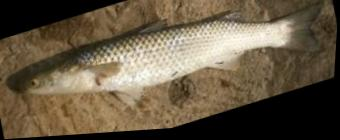fish: (6, 8, 322, 109)
